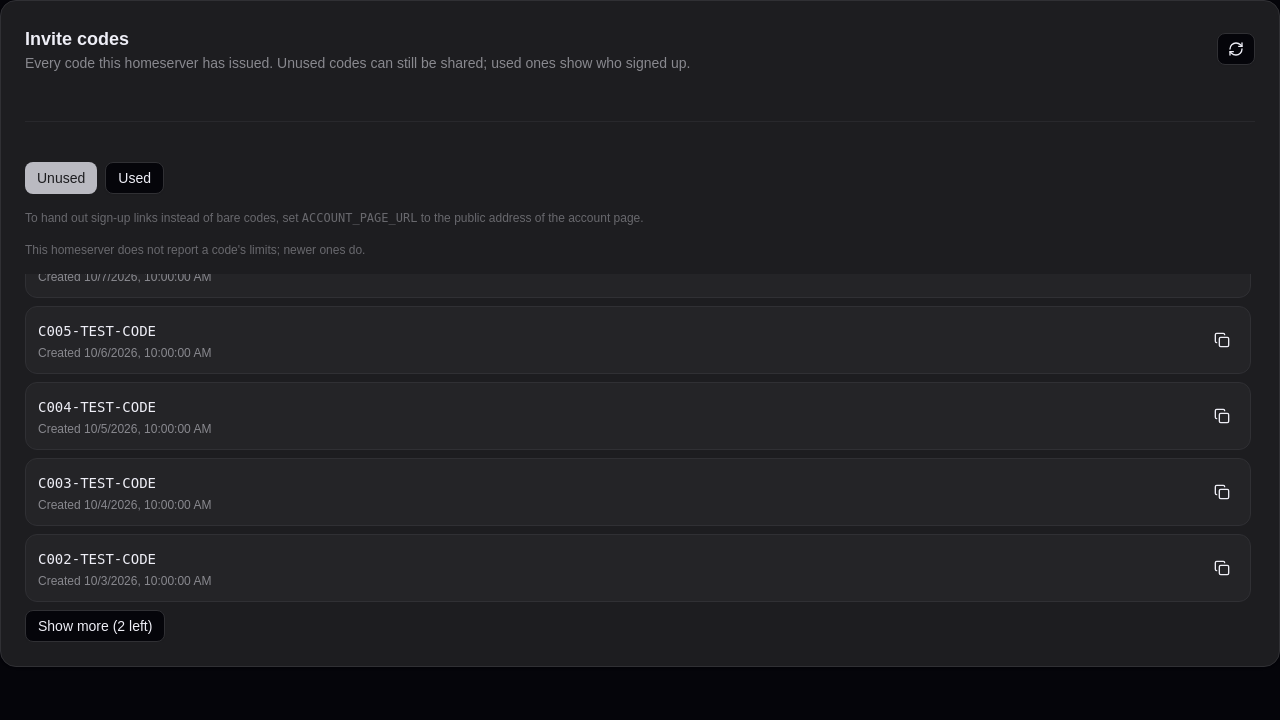
Scenario: SignupTokenList › shows the newest ten, and ten more on request, inside a scrolling box
This screenshot has width=1280, height=720.
(page scrolled)
Click the button with test id "signup-token-more": x=95, y=626 top-left (25, 610), bottom-right (165, 642)
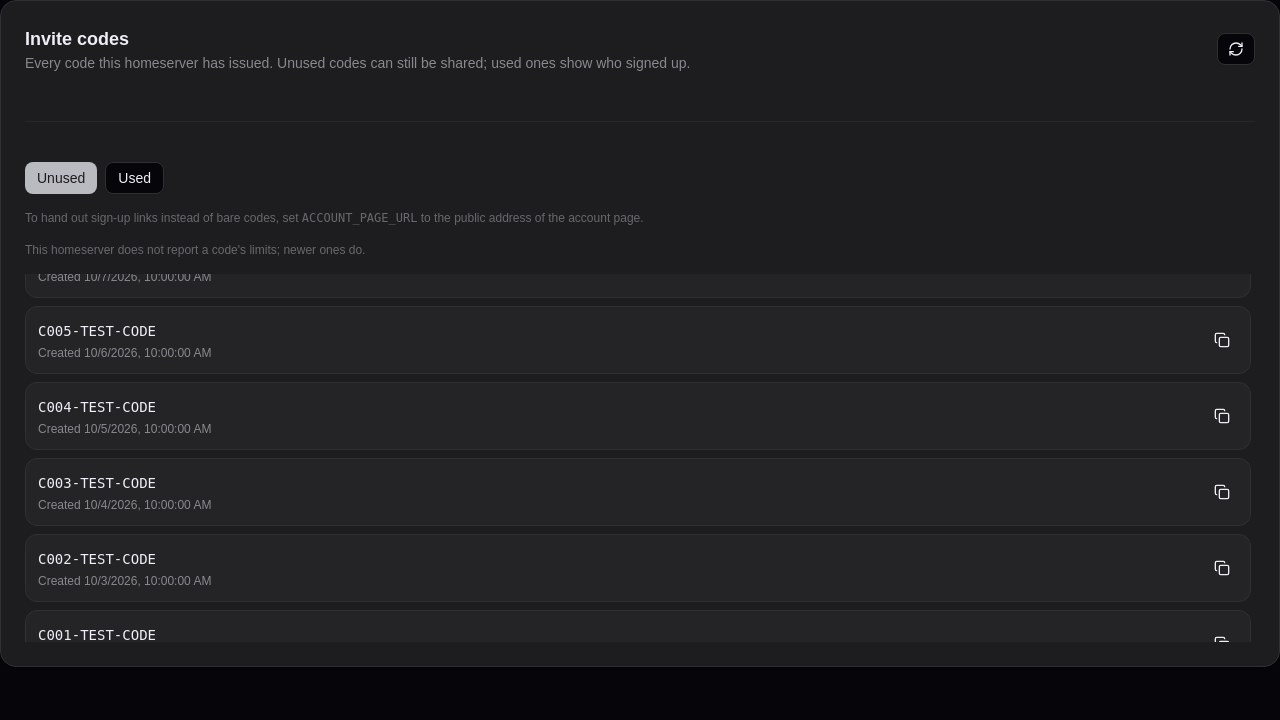
Now the button with test id "signup-token-more" is gone
